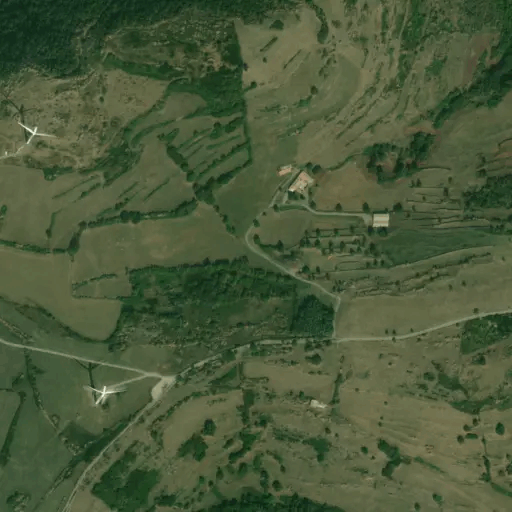wt: (74, 356, 123, 411), (8, 95, 52, 151)
